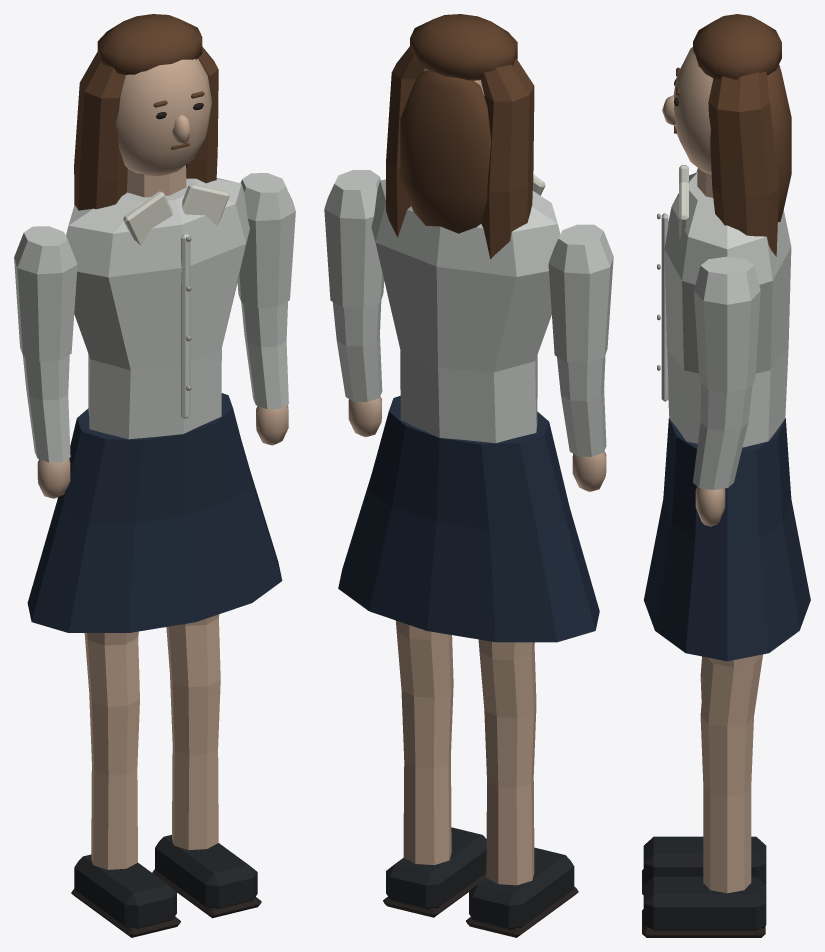
Rendered from person-5.glb.
3 views of the same model, side by side, from view 1: azimuth 30°, elevation 25°; view 2: azimuth 150°, elevation 25°; view 3: azimuth 270°, elevation 25° (orthographic). The views are drawn at different scales.
Parts seen in each view (by area): view 1: body, knee_l, knee_r, arm_l, arm_r, leg_l, leg_r; view 2: body, knee_l, knee_r, arm_l, arm_r, leg_l, leg_r; view 3: body, knee_r, arm_r, leg_r, knee_l.
Part boxes in pixels (x1=…): body: x1=27, y1=14, x2=282, y2=632; knee_l: x1=71, y1=694, x2=180, y2=937; knee_r: x1=152, y1=674, x2=261, y2=918; arm_l: x1=14, y1=226, x2=77, y2=498; arm_r: x1=237, y1=173, x2=295, y2=445; leg_l: x1=84, y1=631, x2=139, y2=706; leg_r: x1=166, y1=614, x2=220, y2=687; body: x1=338, y1=14, x2=599, y2=642; knee_l: x1=466, y1=705, x2=578, y2=937; knee_r: x1=383, y1=684, x2=486, y2=917; arm_l: x1=548, y1=224, x2=613, y2=491; arm_r: x1=324, y1=169, x2=384, y2=437; leg_l: x1=478, y1=639, x2=536, y2=717; leg_r: x1=395, y1=620, x2=453, y2=697; body: x1=644, y1=14, x2=810, y2=661; knee_r: x1=642, y1=716, x2=766, y2=937; arm_r: x1=693, y1=256, x2=760, y2=526; leg_r: x1=700, y1=654, x2=762, y2=727; knee_l: x1=642, y1=676, x2=766, y2=894.
Bounding box in the file's own units: 0.1044 × 0.3148 × 0.0545.
